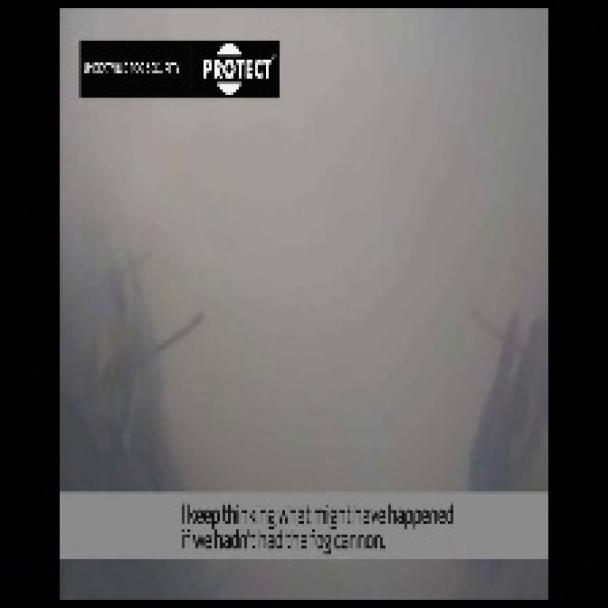smoke: (67, 11, 549, 488)
